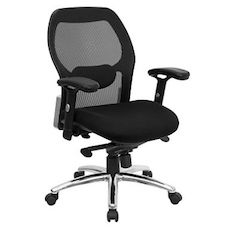chair: (36, 0, 191, 223)
